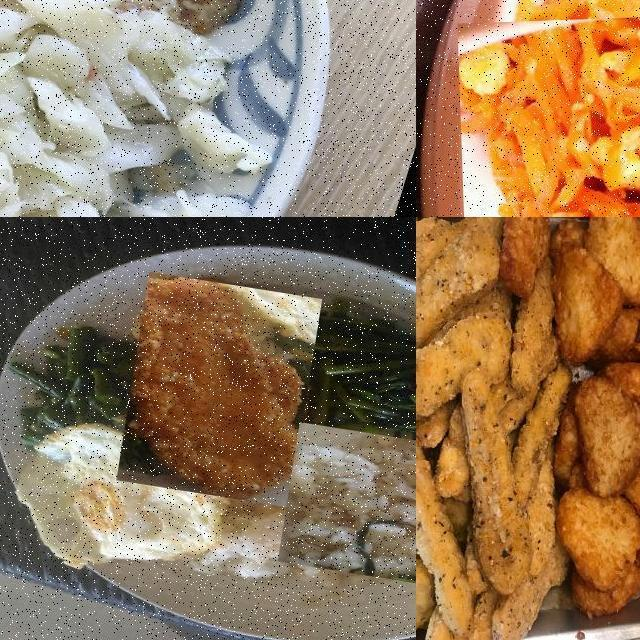Rice: (276, 421, 416, 592), (0, 2, 81, 217)
carrot_eggs: (479, 0, 640, 217)
chicken_nuggets: (416, 240, 466, 572)
chinese_cabbage: (0, 0, 230, 217), (416, 217, 640, 240)
fried_chicken: (115, 271, 322, 508)
fried_eggs: (0, 0, 297, 158), (7, 414, 233, 578)
triangle_hash_brown: (569, 217, 640, 603)
water_spinach: (305, 322, 416, 449)
